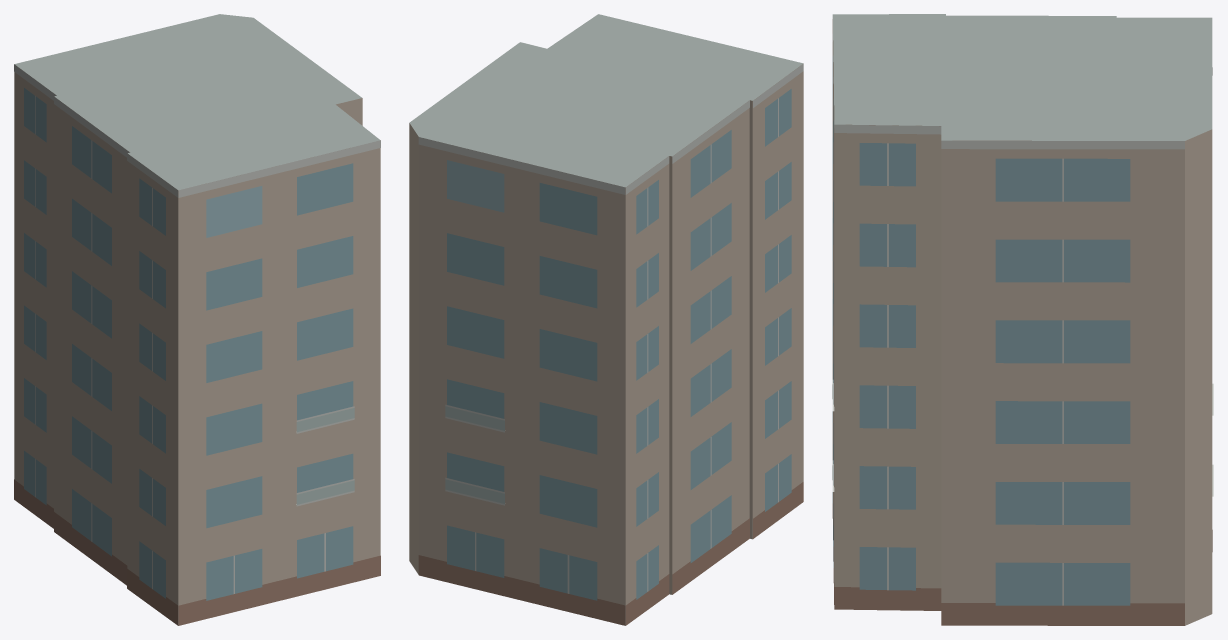
Rendered from survey-upis-32564831.glb.
3 views of the same model, side by side, from view 1: azimuth 30°, elevation 25°; view 2: azimuth 150°, elevation 25°; view 3: azimuth 270°, elevation 25° (orthographic). The views are drawn at different scales.
Parts seen in each view (by area): view 1: survey-upis-32564831.tmp; view 2: survey-upis-32564831.tmp; view 3: survey-upis-32564831.tmp.
Boxes of the visible parts, x1,y1,x2,y2 form: survey-upis-32564831.tmp: [14, 14, 380, 625]; survey-upis-32564831.tmp: [409, 14, 803, 625]; survey-upis-32564831.tmp: [832, 14, 1213, 625].
Size of the model in its own units: 7.87 by 14 by 9.98.
